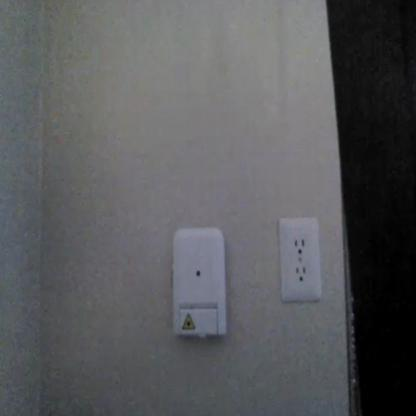OUTLET: (278, 216, 322, 304)
